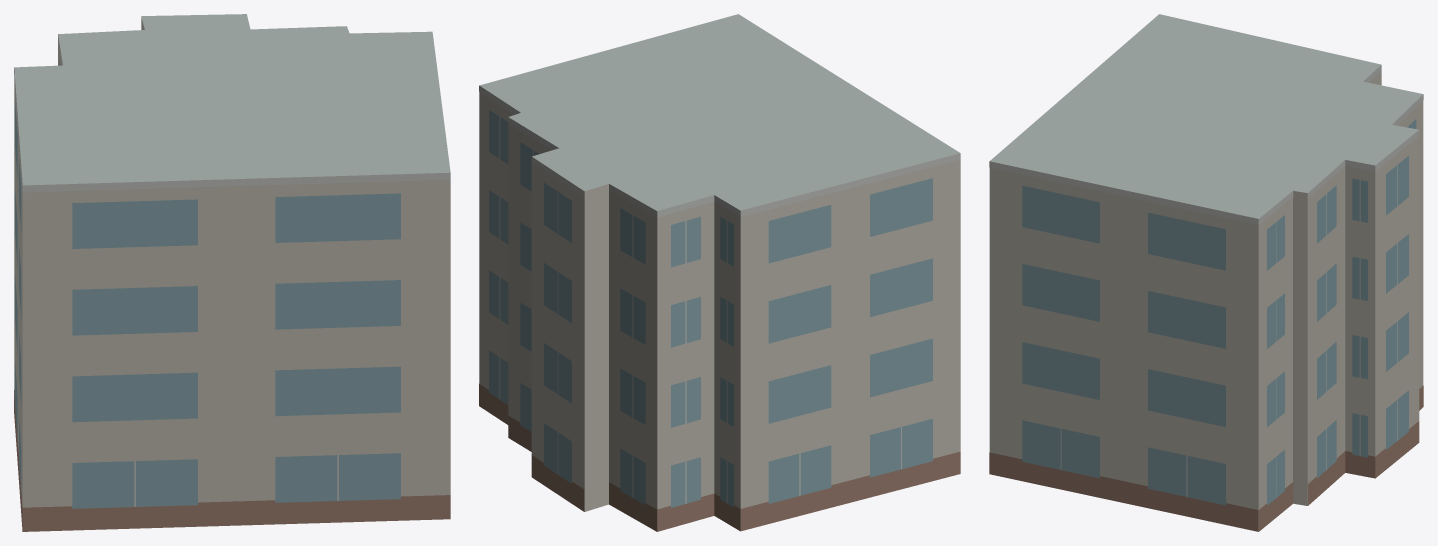
The model's file is survey-upis-32657824.glb.
3 views of the same model, side by side, from view 1: azimuth 30°, elevation 25°; view 2: azimuth 150°, elevation 25°; view 3: azimuth 270°, elevation 25° (orthographic). The views are drawn at different scales.
Visible parts, largest first — view 1: survey-upis-32657824.tmp; view 2: survey-upis-32657824.tmp; view 3: survey-upis-32657824.tmp.
Part boxes in pixels (x1,y1,x2,y2): survey-upis-32657824.tmp: [14, 14, 450, 531]; survey-upis-32657824.tmp: [479, 14, 960, 531]; survey-upis-32657824.tmp: [989, 14, 1423, 531].
Size of the model in its own units: 17.15 by 12.2 by 15.34.
